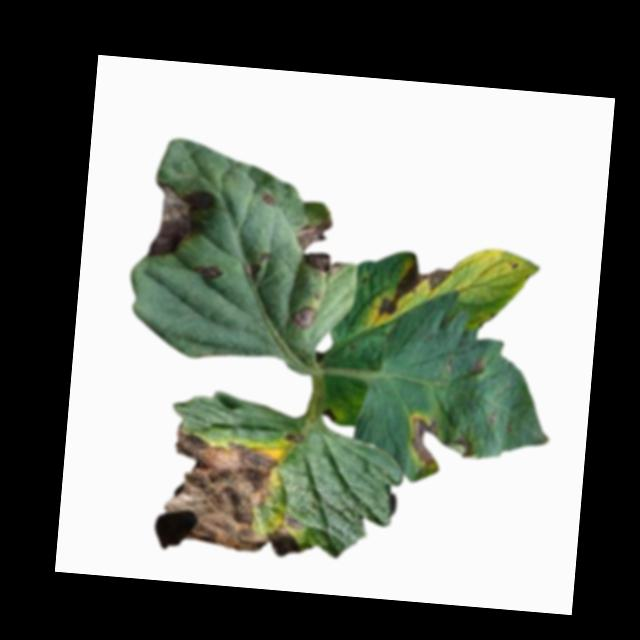Early_blight: (151, 419, 320, 562), (366, 252, 455, 331), (146, 181, 214, 264), (404, 412, 480, 476), (292, 217, 355, 277), (193, 261, 227, 285), (291, 303, 315, 334), (469, 357, 487, 377), (245, 261, 261, 279), (322, 408, 336, 423), (260, 194, 276, 207)
